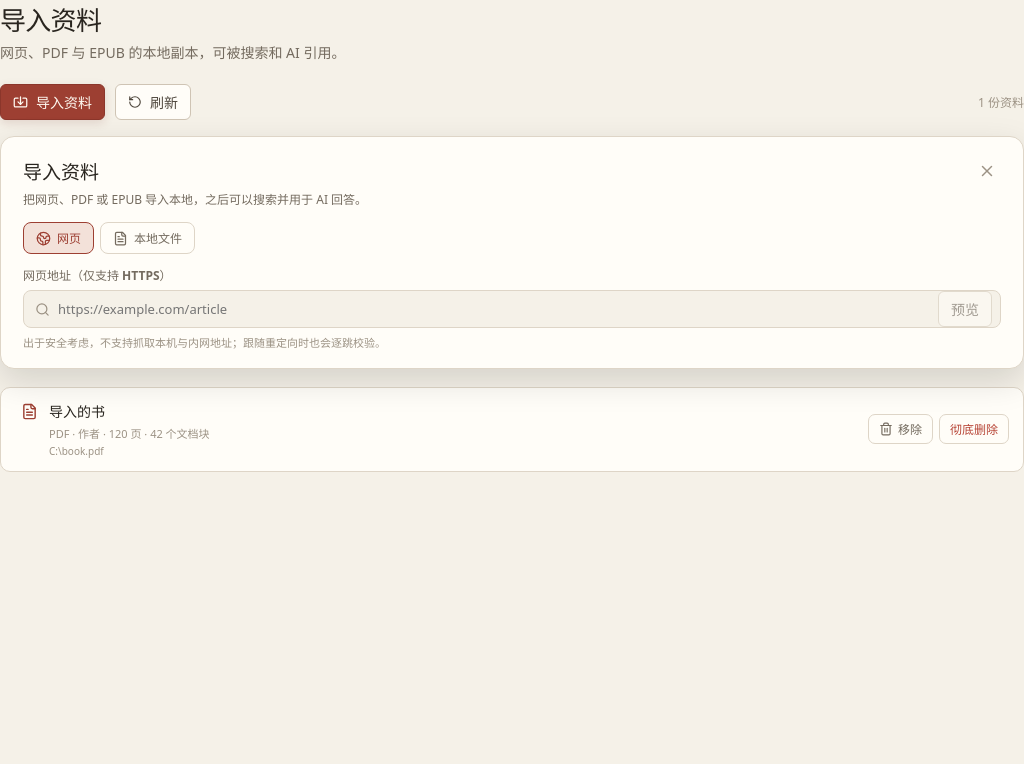
LibrarySources › 导入对话框预览后展示正文样本
What coordinates should you click on to do the following:
click the button "导入资料"
I would click on:
 (52, 102)
Its box is left=0, top=84, right=105, bottom=120.
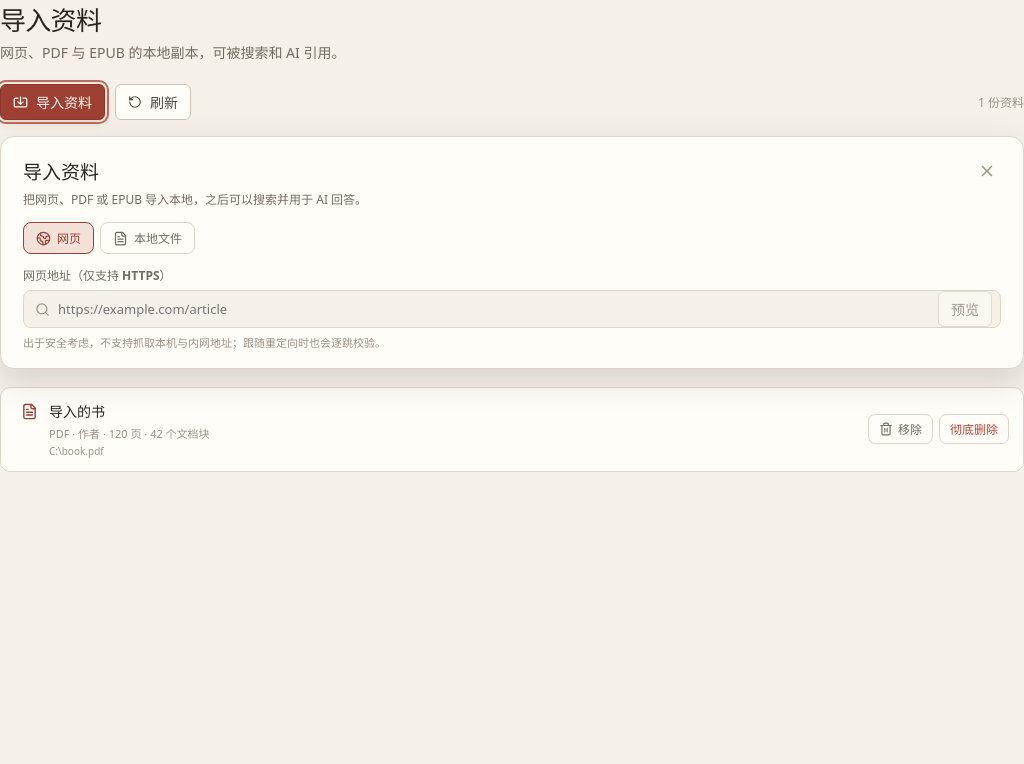
What coordinates should you click on to do the following:
click the tab "本地文件"
I would click on:
 (148, 238)
Its box is left=100, top=222, right=195, bottom=254.
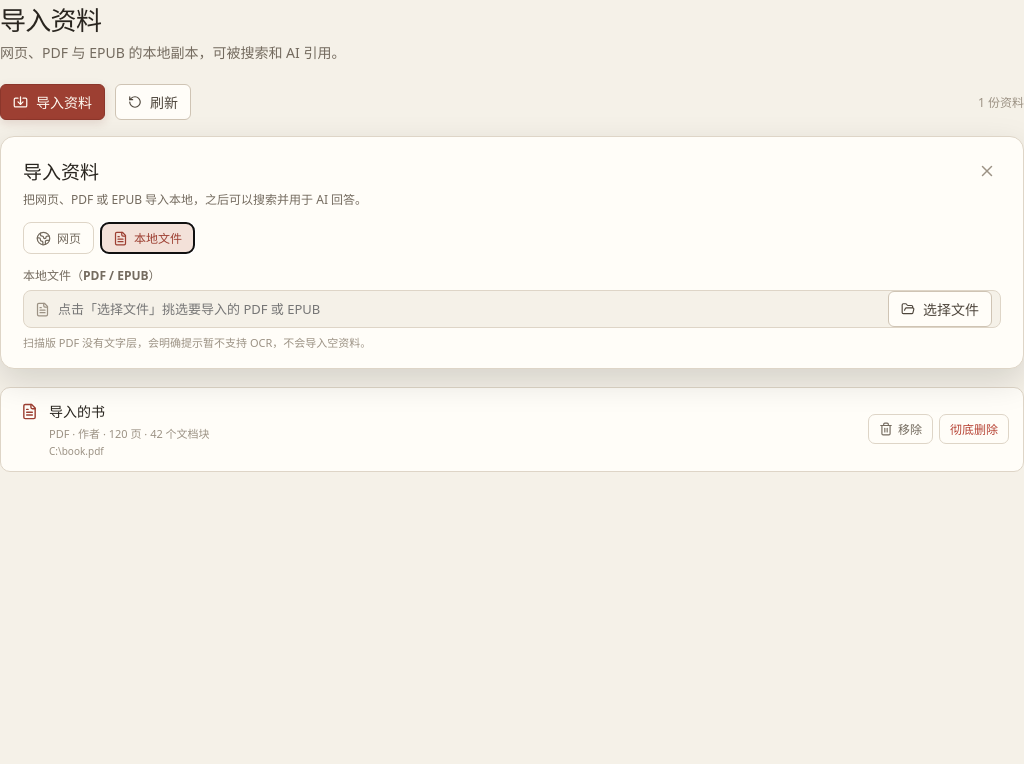
What coordinates should you click on to do the following:
click the button "选择文件"
I would click on:
 (940, 309)
Its box is left=888, top=291, right=992, bottom=327.
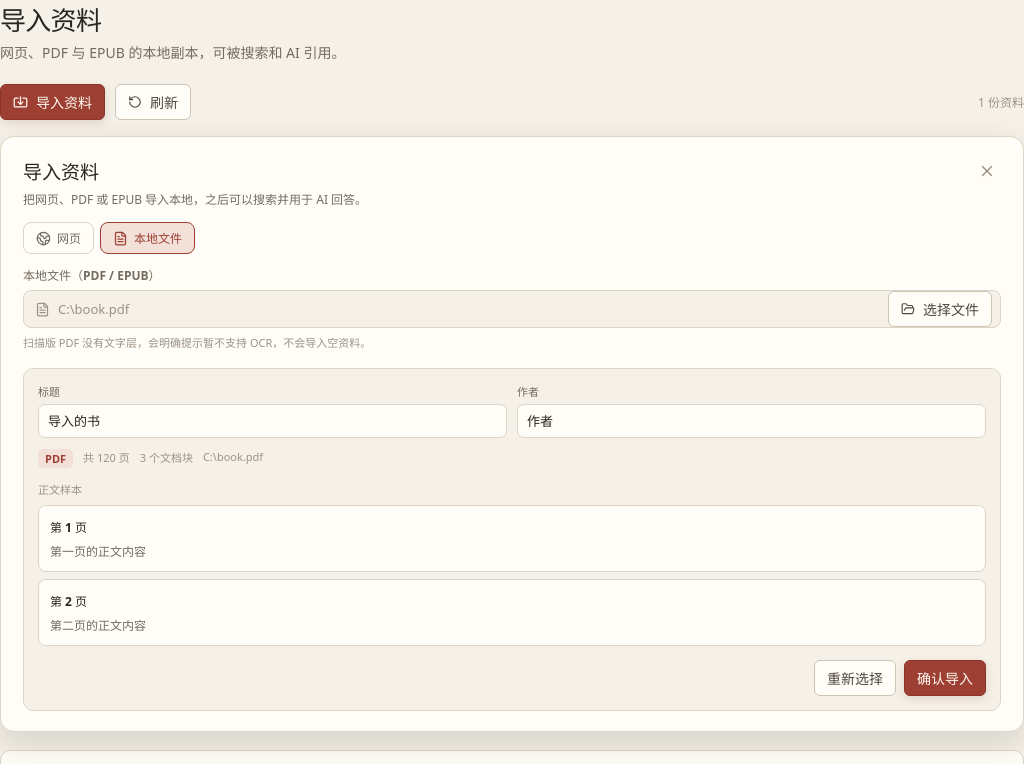
Check: the text "第一页的正文内容" is shown, box left=50, top=543, right=146, bottom=560
Check: the text "3 个文档块" is shown, box left=140, top=449, right=193, bottom=468
Check: the text "共 120 页" is shown, box left=83, top=449, right=130, bottom=468
